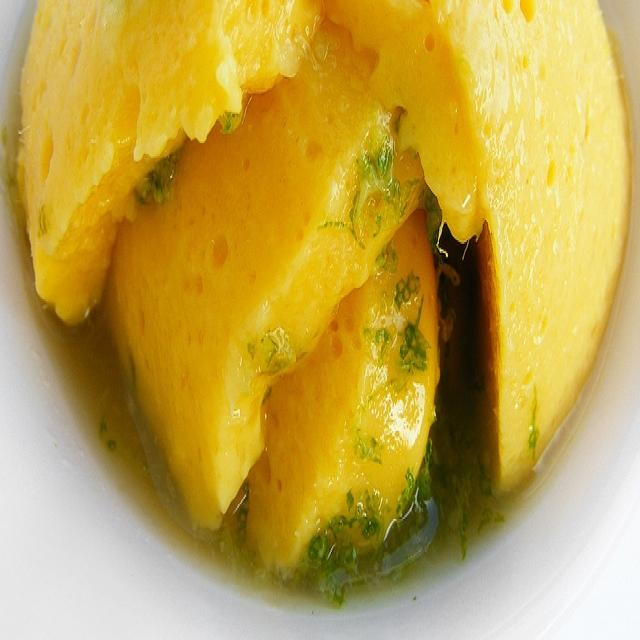蛋糕甜品: (4, 2, 636, 623)
